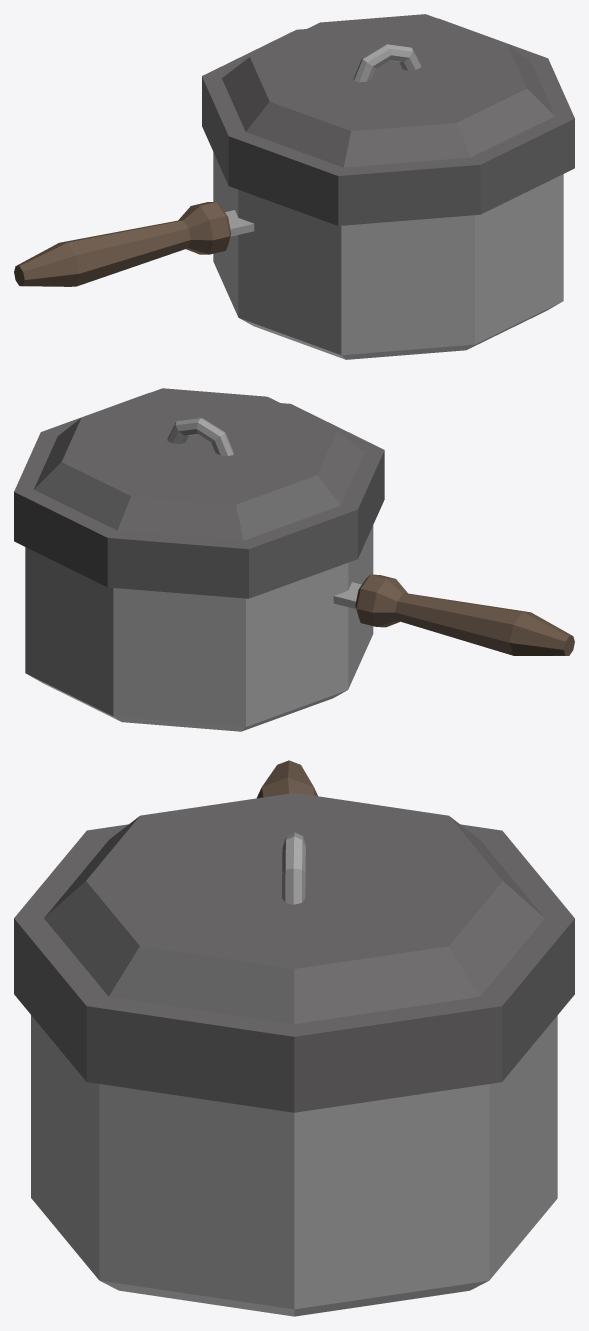
The model's file is Saucepan_3.fbx.
The picture shows the model from 3 angles, top to bottom: view 1: azimuth 30°, elevation 25°; view 2: azimuth 150°, elevation 25°; view 3: azimuth 270°, elevation 25°; orthographic projection. The views are drawn at different scales.
Visible parts, largest first — view 1: Saucepan_3; view 2: Saucepan_3; view 3: Saucepan_3.
Boxes of the visible parts, x1=… form: Saucepan_3: x1=14, y1=14, x2=574, y2=359; Saucepan_3: x1=14, y1=388, x2=574, y2=731; Saucepan_3: x1=14, y1=760, x2=574, y2=1316.
Bounding box in the file's own units: 34.51 × 20.77 × 15.49.
